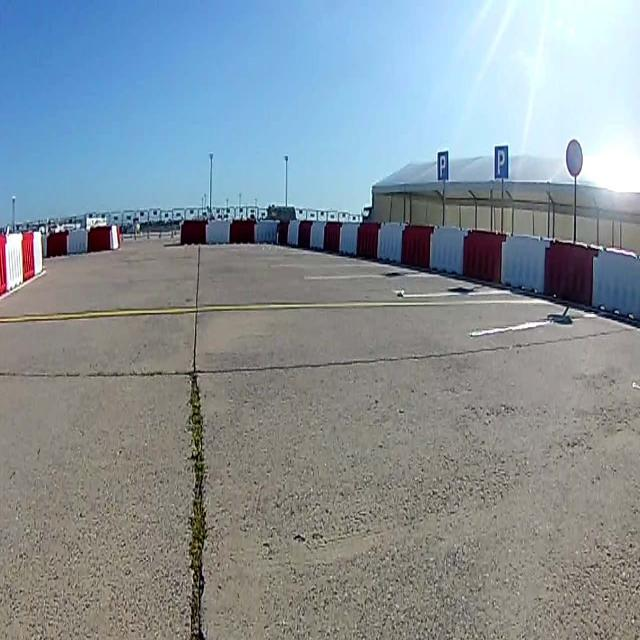park: (494, 145, 508, 179), (438, 150, 448, 179)
